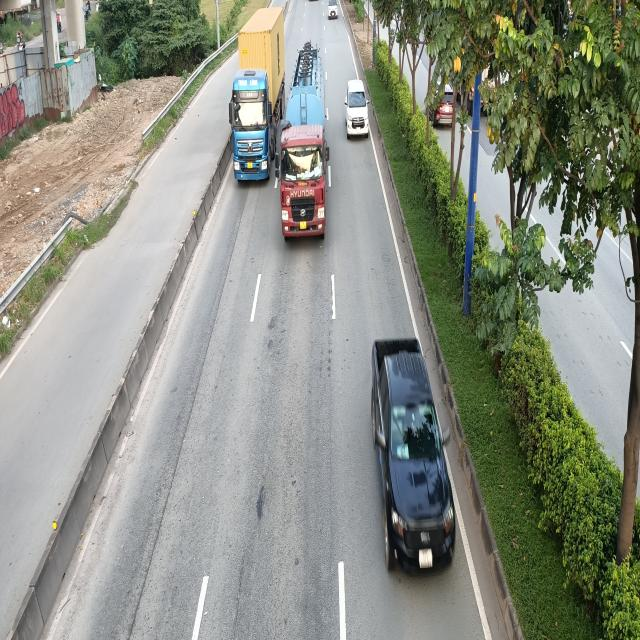car: (370, 342, 460, 579), (344, 80, 369, 138)
container: (275, 39, 330, 243), (226, 6, 283, 182)
